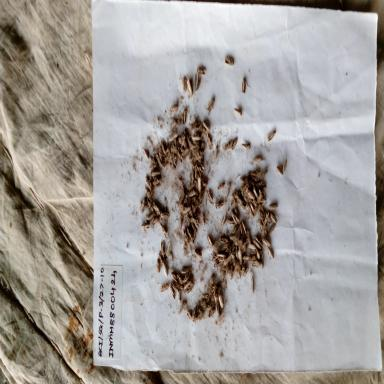pbw: (152, 201, 162, 218), (224, 54, 235, 68), (245, 186, 256, 200), (248, 167, 262, 178), (207, 96, 216, 113), (223, 138, 233, 153), (216, 311, 226, 326), (186, 78, 194, 96), (260, 166, 269, 182), (194, 74, 202, 92), (207, 272, 215, 289), (140, 222, 151, 234), (180, 264, 191, 276), (195, 161, 205, 174), (267, 129, 277, 142), (178, 299, 186, 315), (253, 202, 261, 218), (212, 234, 220, 250), (240, 238, 249, 252), (219, 233, 230, 244), (252, 154, 264, 164), (195, 65, 207, 75), (162, 261, 169, 278), (221, 211, 228, 228), (269, 212, 278, 225), (264, 210, 272, 224), (214, 284, 222, 298), (208, 305, 216, 319), (171, 280, 179, 294), (160, 210, 170, 221), (159, 282, 169, 293), (152, 215, 162, 226), (168, 132, 179, 142), (223, 255, 233, 266), (150, 177, 162, 186), (226, 180, 232, 198), (282, 156, 288, 174), (252, 238, 261, 250), (183, 280, 192, 292), (202, 119, 211, 131), (241, 76, 247, 94), (182, 75, 188, 93), (182, 106, 188, 124), (206, 188, 213, 203), (186, 226, 193, 241), (267, 246, 274, 261), (142, 147, 150, 160), (232, 222, 240, 235), (255, 234, 263, 247), (218, 293, 224, 310), (241, 219, 247, 236), (196, 176, 202, 193), (261, 236, 271, 246), (233, 107, 243, 117), (182, 205, 192, 215), (250, 275, 255, 295), (169, 103, 179, 113), (180, 147, 190, 157), (216, 181, 226, 191), (145, 211, 155, 221), (213, 259, 223, 269), (172, 115, 182, 125), (191, 222, 198, 236), (205, 133, 212, 147), (206, 233, 213, 247), (186, 134, 193, 148), (240, 178, 248, 190), (176, 150, 184, 162), (150, 170, 162, 178), (216, 198, 224, 210), (200, 210, 206, 226), (159, 222, 167, 234), (155, 258, 161, 274), (166, 241, 172, 257), (170, 284, 176, 300), (179, 190, 185, 206), (242, 265, 250, 277), (194, 246, 202, 258), (182, 271, 190, 283), (257, 218, 264, 231), (246, 203, 253, 216), (174, 200, 184, 209), (260, 251, 265, 269), (241, 142, 251, 151), (148, 162, 159, 170), (191, 135, 202, 143), (275, 165, 283, 176), (230, 197, 238, 208), (160, 238, 165, 255), (256, 192, 262, 206), (234, 213, 241, 225), (231, 137, 238, 149), (144, 186, 150, 200), (177, 273, 183, 287), (197, 196, 203, 210), (201, 291, 210, 300), (219, 242, 228, 251), (242, 255, 252, 263), (214, 144, 219, 160), (248, 242, 256, 252), (211, 252, 219, 262), (237, 264, 242, 280), (246, 228, 251, 244), (178, 216, 183, 232), (184, 285, 192, 295), (146, 196, 152, 209), (234, 206, 240, 219), (192, 200, 198, 213), (179, 132, 186, 143), (186, 308, 192, 320), (259, 184, 267, 193), (188, 188, 196, 197), (193, 218, 199, 230), (251, 261, 260, 269), (199, 180, 208, 188), (196, 309, 202, 321), (144, 174, 150, 186), (252, 186, 258, 198), (255, 250, 261, 262), (161, 142, 166, 156), (269, 222, 276, 232), (226, 218, 236, 225), (268, 202, 278, 209), (170, 270, 177, 280), (264, 222, 268, 239), (149, 184, 155, 195), (154, 153, 160, 164), (178, 288, 182, 304), (190, 121, 198, 129), (260, 196, 268, 204), (238, 248, 242, 264), (190, 168, 194, 184), (192, 308, 196, 324), (217, 252, 226, 259), (206, 301, 213, 310), (221, 271, 226, 283), (163, 156, 168, 168), (234, 262, 239, 274), (201, 141, 206, 153), (229, 266, 233, 281), (192, 145, 200, 152), (228, 233, 236, 240), (224, 263, 228, 276), (234, 248, 238, 260), (250, 201, 254, 213), (158, 252, 162, 262)
